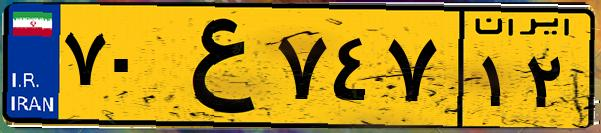0: (110, 28, 158, 98)
1: (475, 38, 525, 113)
2: (525, 38, 570, 115)
4: (330, 28, 385, 110)
7: (270, 28, 330, 110), (385, 28, 445, 110), (57, 26, 110, 100)
ع: (158, 12, 270, 120)
